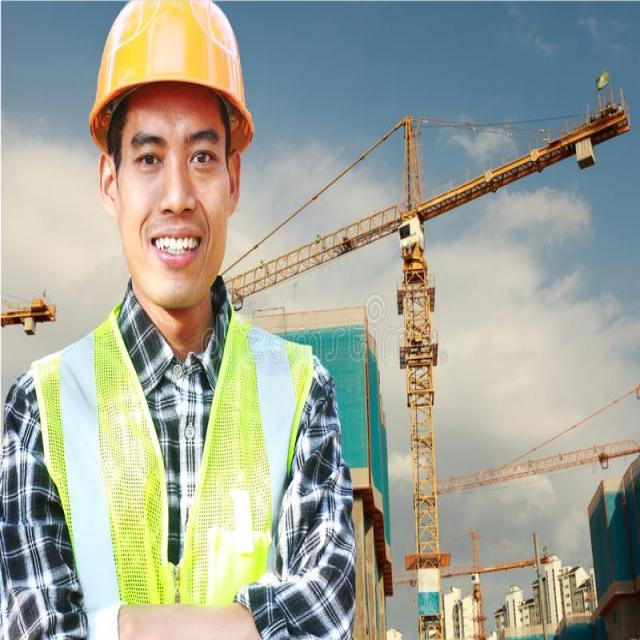Reflective-Jacket: (31, 314, 319, 630)
Safety-Helmet: (85, 2, 254, 152)
